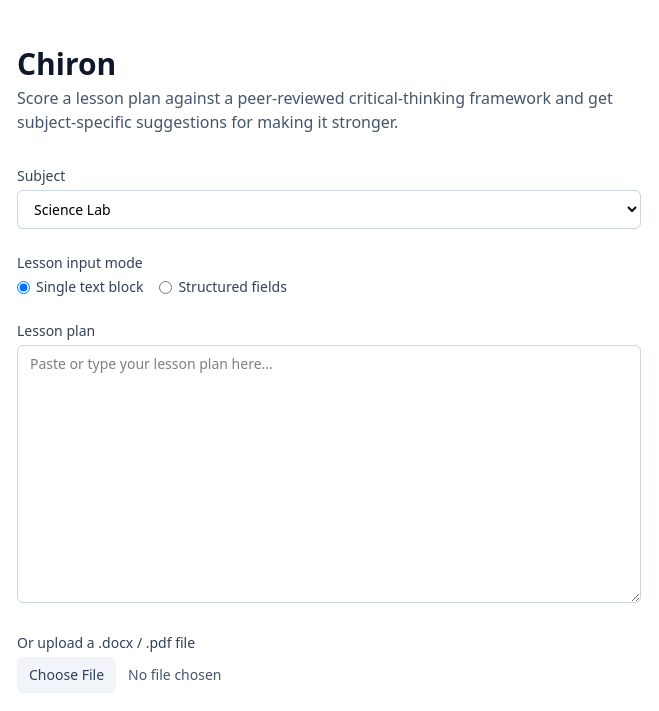
lesson analyzer — input to score to revise loop › shows the specific provider-failure message on a 502, not a generic fallback
Type "A lesson about the water cycle." into the text box labelled "Lesson plan" at {"x": 329, "y": 474}, box [17,345,641,603]
(page scrolled)
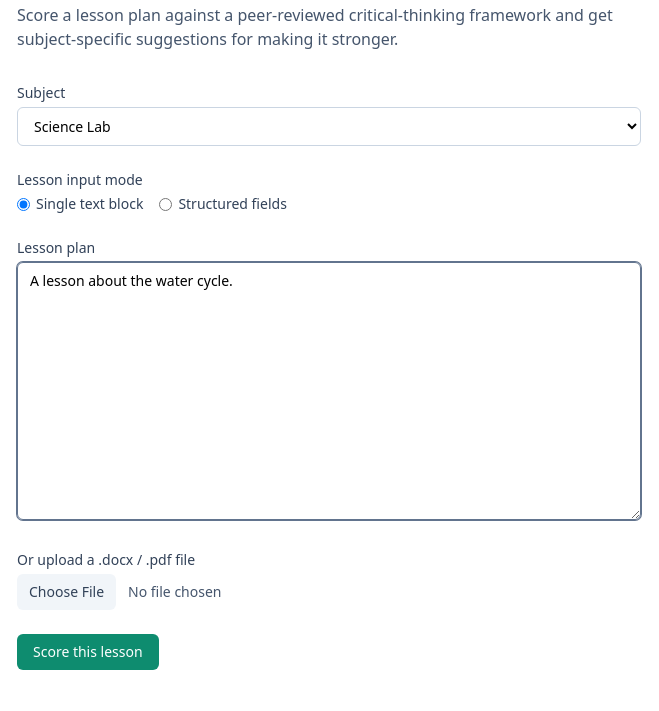
Click the button "Score this lesson" at {"x": 88, "y": 652}, box [17,634,159,670]
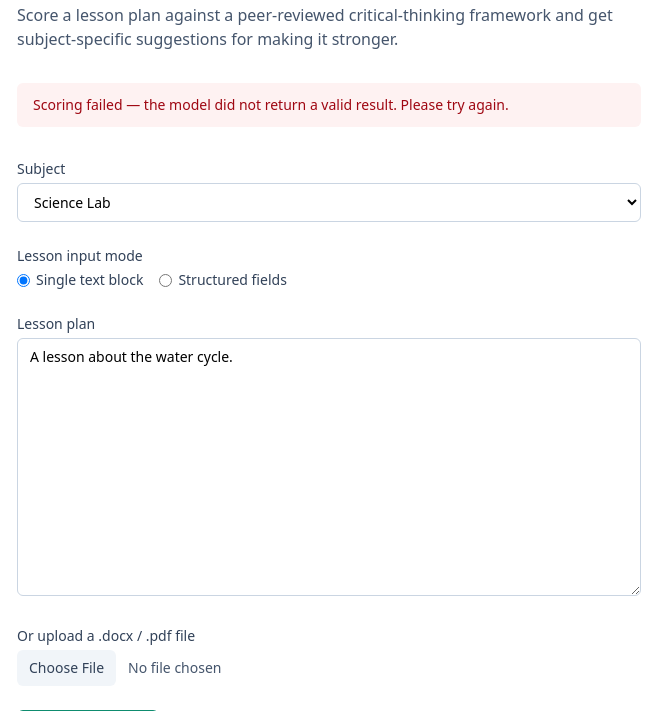
Check: the text box labelled "Lesson plan" holds "A lesson about the water cycle.", box [17,338,641,596]
Check: the message shows "the model did not return a valid result", box [33,95,509,114]
